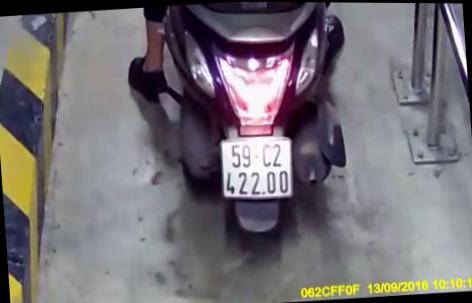LP: (218, 132, 296, 201)
